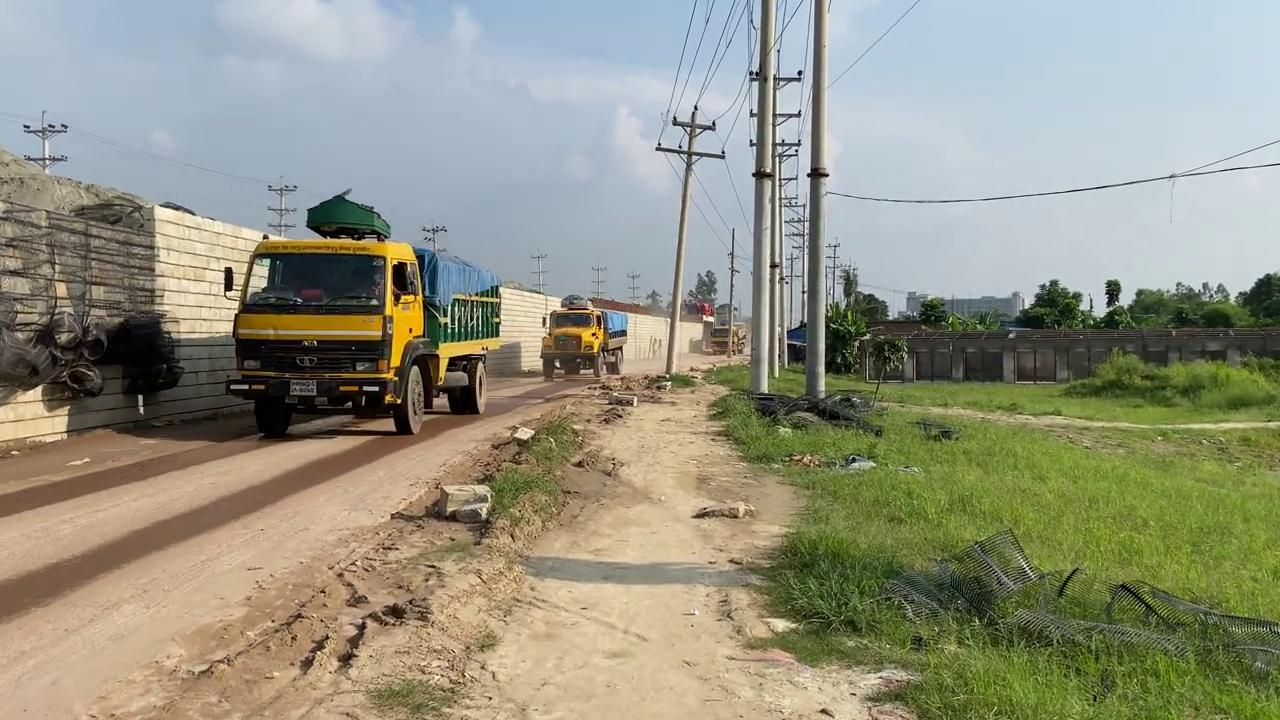Fence: (857, 327, 1279, 384)
Obstacle: (304, 191, 391, 240)
Pole: (747, 0, 777, 393), (803, 0, 829, 399)
Rickshaw: (452, 354, 915, 718)
Tree: (222, 189, 502, 436), (539, 293, 628, 379), (682, 296, 747, 355)
